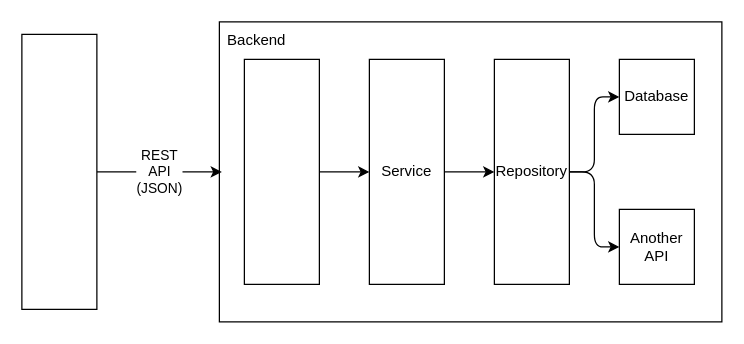
Some shapes in this 744 by 344 pixel diagram are drawn without their labels. The shapes that lost their labels are listed below. From the top down, each one's box as (x1, y1, x2, y2) in pixels, then its label:
(21, 33, 97, 309): Frontend (React, Angular, etc...)
(243, 58, 319, 284): Controller
